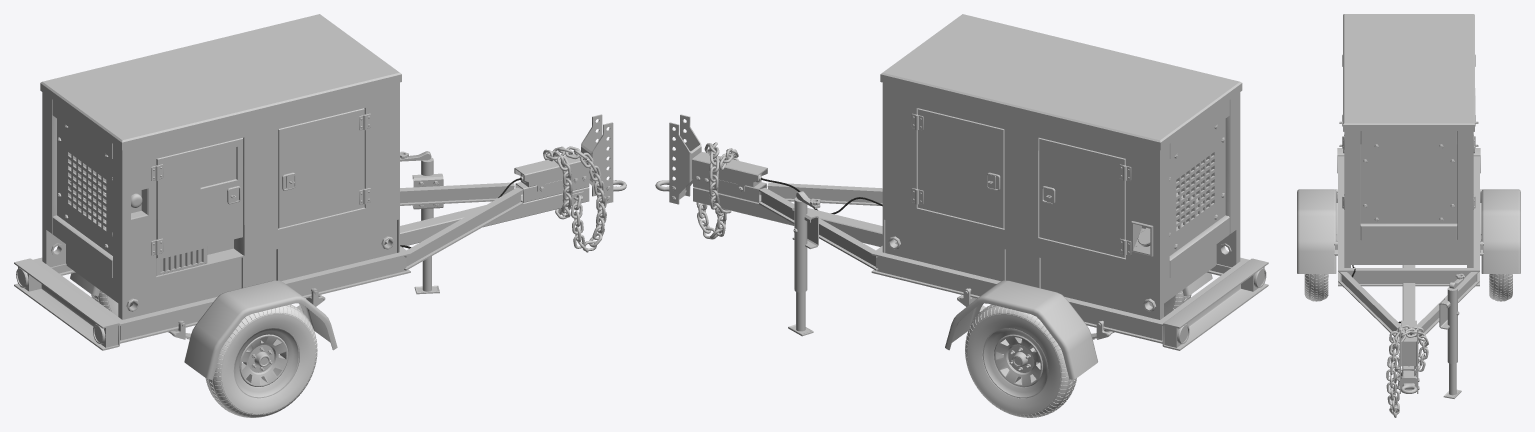
File: KB3D_DMZ_Trailer_B.fbx
3 views of the same model, side by side, from view 1: azimuth 30°, elevation 25°; view 2: azimuth 150°, elevation 25°; view 3: azimuth 270°, elevation 25° (orthographic). The views are drawn at different scales.
Parts seen in each view (by area): view 1: KB3D_DMZ_Trailer_B_Main; view 2: KB3D_DMZ_Trailer_B_Main; view 3: KB3D_DMZ_Trailer_B_Main.
Boxes of the visible parts, x1,y1,x2,y2 form: KB3D_DMZ_Trailer_B_Main: (14,14,626,417); KB3D_DMZ_Trailer_B_Main: (655,14,1268,417); KB3D_DMZ_Trailer_B_Main: (1297,14,1520,417).
Bounding box in the file's own units: 409 × 201 × 173.
